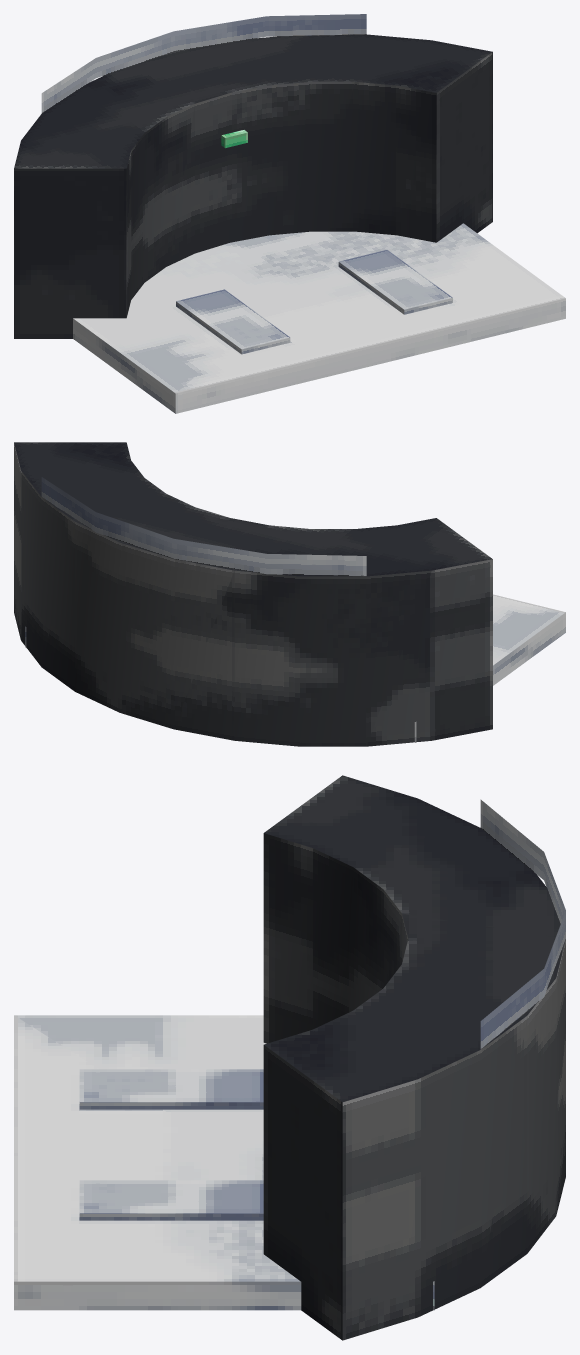
The model's file is vacuum_dock_m.glb.
The picture shows the model from 3 angles, top to bottom: view 1: azimuth 30°, elevation 25°; view 2: azimuth 150°, elevation 25°; view 3: azimuth 270°, elevation 25°; orthographic projection. The views are drawn at different scales.
Parts seen in each view (by area): view 1: mesh; view 2: mesh; view 3: mesh.
Boxes of the visible parts, <box> form: mesh: <box>14,14,565,413</box>; mesh: <box>14,442,565,746</box>; mesh: <box>14,775,565,1340</box>.
Size of the model in its own units: 0.2892 by 0.11 by 0.2063.
Materials: 1 (1 with a texture image).
